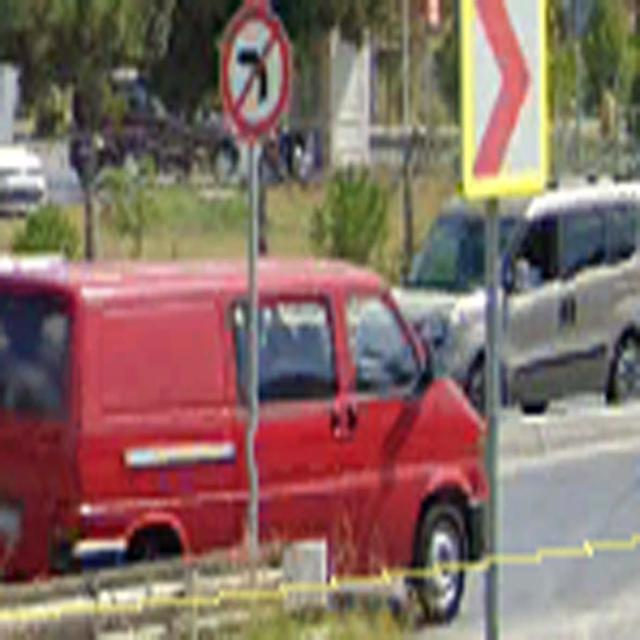soladonulmez: (220, 3, 290, 136)
